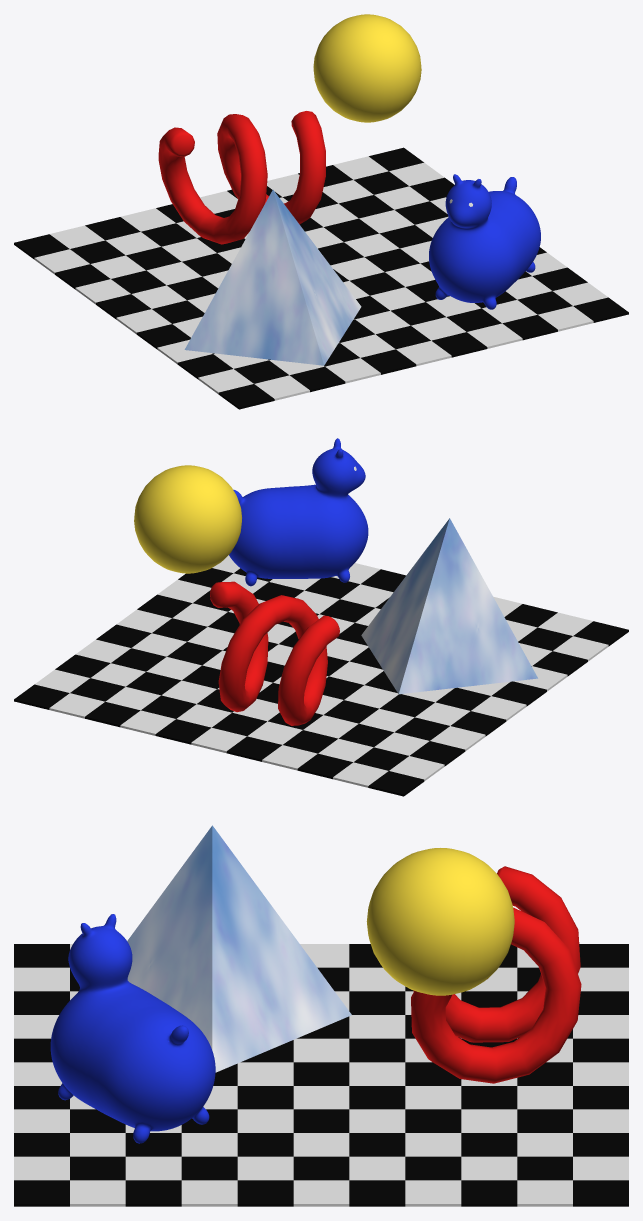
3 views of the same model, one above another, from view 1: azimuth 30°, elevation 25°; view 2: azimuth 150°, elevation 25°; view 3: azimuth 270°, elevation 25° (orthographic). The views are drawn at different scales.
Visible parts, largest first — view 1: Grid, Cone, Helix.001, bouncy, Sphere; view 2: Grid, Cone, bouncy, Helix.001, Sphere; view 3: Grid, Cone, bouncy, Helix.001, Sphere.
Boxes of the visible parts, x1=… form: Grid: x1=14, y1=147, x2=628, y2=409; Cone: x1=184, y1=190, x2=361, y2=365; Helix.001: x1=158, y1=111, x2=325, y2=244; bouncy: x1=429, y1=174, x2=540, y2=309; Sphere: x1=313, y1=14, x2=421, y2=122; Grid: x1=14, y1=555, x2=628, y2=796; Cone: x1=361, y1=518, x2=537, y2=694; bouncy: x1=229, y1=438, x2=368, y2=586; Helix.001: x1=210, y1=581, x2=339, y2=725; Sphere: x1=134, y1=465, x2=241, y2=573; Grid: x1=14, y1=944, x2=628, y2=1206; Cone: x1=127, y1=825, x2=351, y2=1072; bouncy: x1=50, y1=914, x2=215, y2=1143; Helix.001: x1=411, y1=866, x2=581, y2=1083; Sphere: x1=366, y1=848, x2=514, y2=995.
Size of the model in its own units: 10 by 5.22 by 10.
Materials: 7 (1 with a texture image).
